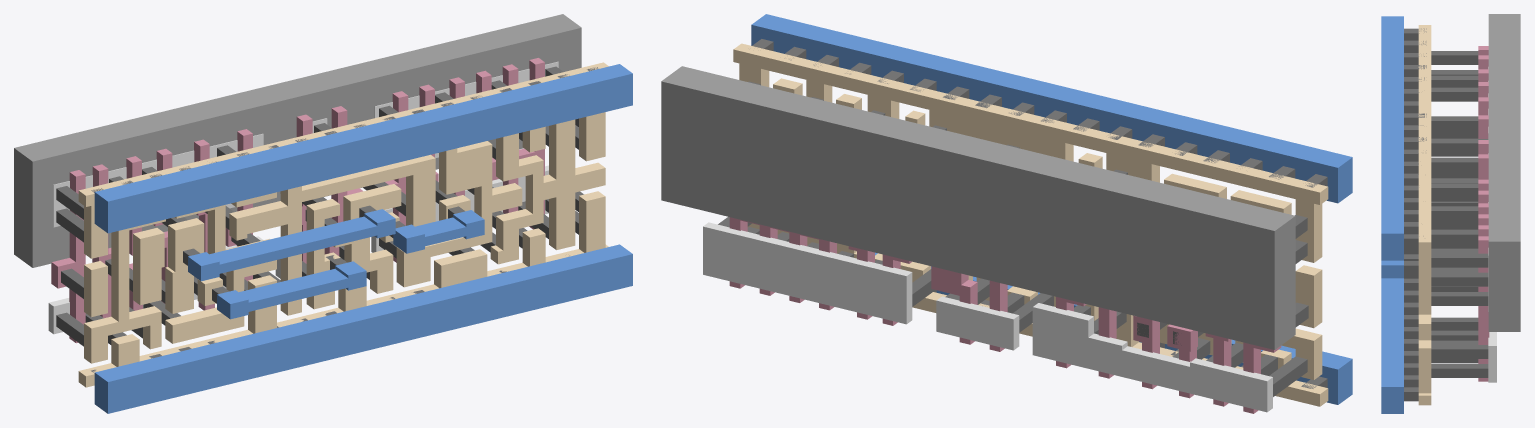
File: sky130_fd_sc_hd__sdlclkp_4.gds.gltf
3 renders of one model, left to right at view 1: azimuth 30°, elevation 25°; view 2: azimuth 150°, elevation 25°; view 3: azimuth 270°, elevation 25°, orthographic. The views are drawn at different scales.
Visible parts, largest first — view 1: sky130_fd_sc_hd__sdlclkp_4_met1, sky130_fd_sc_hd__sdlclkp_4_li1, sky130_fd_sc_hd__sdlclkp_4_nwell, sky130_fd_sc_hd__sdlclkp_4_poly, sky130_fd_sc_hd__sdlclkp_4_licon, sky130_fd_sc_hd__sdlclkp_4_diff, sky130_fd_sc_hd__sdlclkp_4_mcon; view 2: sky130_fd_sc_hd__sdlclkp_4_nwell, sky130_fd_sc_hd__sdlclkp_4_li1, sky130_fd_sc_hd__sdlclkp_4_diff, sky130_fd_sc_hd__sdlclkp_4_met1, sky130_fd_sc_hd__sdlclkp_4_poly, sky130_fd_sc_hd__sdlclkp_4_licon, sky130_fd_sc_hd__sdlclkp_4_mcon; view 3: sky130_fd_sc_hd__sdlclkp_4_licon, sky130_fd_sc_hd__sdlclkp_4_nwell, sky130_fd_sc_hd__sdlclkp_4_met1, sky130_fd_sc_hd__sdlclkp_4_mcon, sky130_fd_sc_hd__sdlclkp_4_li1, sky130_fd_sc_hd__sdlclkp_4_poly, sky130_fd_sc_hd__sdlclkp_4_diff.
Boxes of the visible parts, x1=… form: sky130_fd_sc_hd__sdlclkp_4_met1: x1=94, y1=64, x2=632, y2=413; sky130_fd_sc_hd__sdlclkp_4_li1: x1=78, y1=62, x2=608, y2=387; sky130_fd_sc_hd__sdlclkp_4_nwell: x1=14, y1=14, x2=581, y2=267; sky130_fd_sc_hd__sdlclkp_4_poly: x1=51, y1=58, x2=544, y2=343; sky130_fd_sc_hd__sdlclkp_4_licon: x1=56, y1=66, x2=583, y2=346; sky130_fd_sc_hd__sdlclkp_4_diff: x1=48, y1=61, x2=558, y2=334; sky130_fd_sc_hd__sdlclkp_4_mcon: x1=91, y1=67, x2=598, y2=373; sky130_fd_sc_hd__sdlclkp_4_nwell: x1=661, y1=66, x2=1295, y2=349; sky130_fd_sc_hd__sdlclkp_4_li1: x1=733, y1=43, x2=1328, y2=406; sky130_fd_sc_hd__sdlclkp_4_diff: x1=703, y1=222, x2=1272, y2=412; sky130_fd_sc_hd__sdlclkp_4_met1: x1=751, y1=14, x2=1352, y2=404; sky130_fd_sc_hd__sdlclkp_4_poly: x1=729, y1=217, x2=1281, y2=413; sky130_fd_sc_hd__sdlclkp_4_licon: x1=718, y1=81, x2=1308, y2=396; sky130_fd_sc_hd__sdlclkp_4_mcon: x1=752, y1=39, x2=1327, y2=388; sky130_fd_sc_hd__sdlclkp_4_licon: x1=1431, y1=51, x2=1488, y2=377; sky130_fd_sc_hd__sdlclkp_4_nwell: x1=1488, y1=14, x2=1520, y2=331; sky130_fd_sc_hd__sdlclkp_4_met1: x1=1381, y1=16, x2=1403, y2=413; sky130_fd_sc_hd__sdlclkp_4_mcon: x1=1404, y1=28, x2=1426, y2=401; sky130_fd_sc_hd__sdlclkp_4_li1: x1=1418, y1=25, x2=1431, y2=405; sky130_fd_sc_hd__sdlclkp_4_poly: x1=1478, y1=46, x2=1489, y2=381; sky130_fd_sc_hd__sdlclkp_4_diff: x1=1488, y1=67, x2=1496, y2=382.
Size of the model in its own units: 8.66 by 3.2 by 2.24.
